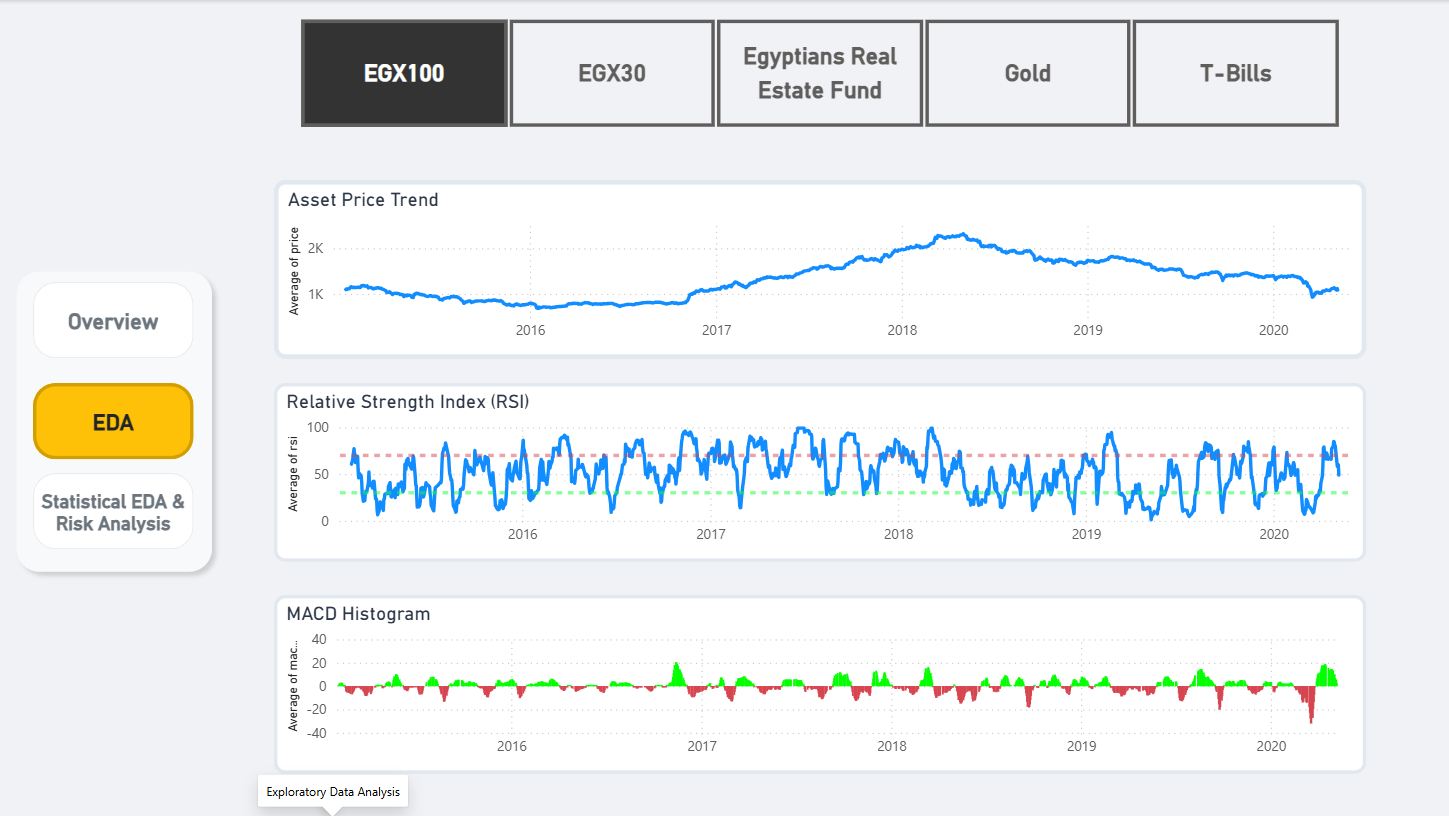

The page's visual inventory and layout, read from the dashboard file:
{"tool":"powerbi","page":{"name":"Exploratory Data Analysis","canvas":[1280,720],"ordinal":1},"visuals":[{"type":"slicer","fields":{"Values":["cleaned_data.Asset"]},"box":[242.2,12.6,959,104.1],"z":0},{"type":"lineChart","title":"Asset Price Trend","fields":{"Y":["Avg(cleaned_data.price)"],"Category":["cleaned_data.date"]},"box":[242.3,158.2,959,157],"z":1000},{"type":"lineChart","title":"Relative Strength Index (RSI)","fields":{"Y":["Avg(final_data.rsi)"],"Category":["final_data.date"]},"box":[242.3,336.2,959,157],"z":2000},{"type":"clusteredColumnChart","title":"MACD Histogram","fields":{"Category":["final_data.date"],"Y":["Avg(final_data.macd_hist)"]},"box":[242.3,522.2,959,157],"z":3000},{"type":"shape","box":[7,229,190,282],"z":3500},{"type":"actionButton","box":[31,248,141,67],"z":4000},{"type":"actionButton","box":[31,336,141,67],"z":5000},{"type":"actionButton","box":[31,415,141,67],"z":6000}]}

Visuals, with their boxes on the page's 1280x720 design canvas (x1, y1, x2, y2). These are canvas units, not pixel positions in the 1449x816 screenshot, which may show the page scaled, cropped or inside an application window:
slicer - cleaned_data.Asset: bbox=[242, 13, 1201, 117]
"Asset Price Trend" lineChart: bbox=[242, 158, 1201, 315]
"Relative Strength Index (RSI)" lineChart: bbox=[242, 336, 1201, 493]
"MACD Histogram" clusteredColumnChart: bbox=[242, 522, 1201, 679]
shape: bbox=[7, 229, 197, 511]
actionButton: bbox=[31, 248, 172, 315]
actionButton: bbox=[31, 336, 172, 403]
actionButton: bbox=[31, 415, 172, 482]
